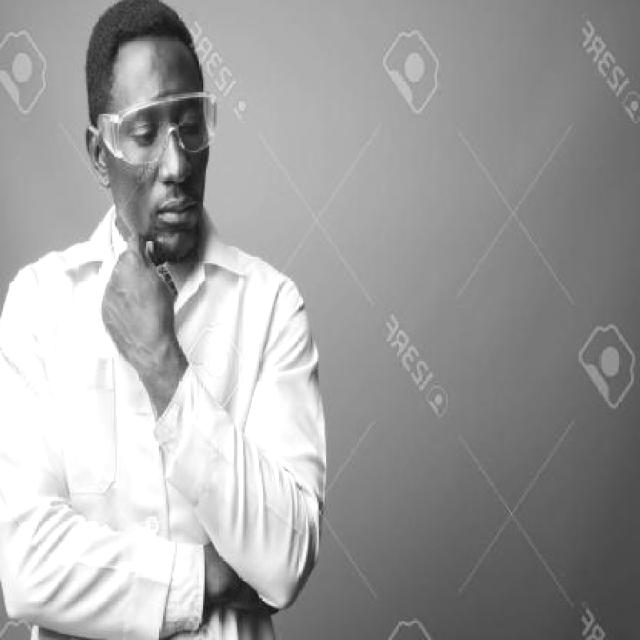face_nomask: (124, 100, 211, 232)
glasses: (90, 88, 218, 169)
hand_noglove: (98, 238, 180, 364)
head_nohelmet: (87, 0, 216, 72)
person: (0, 0, 328, 640)
